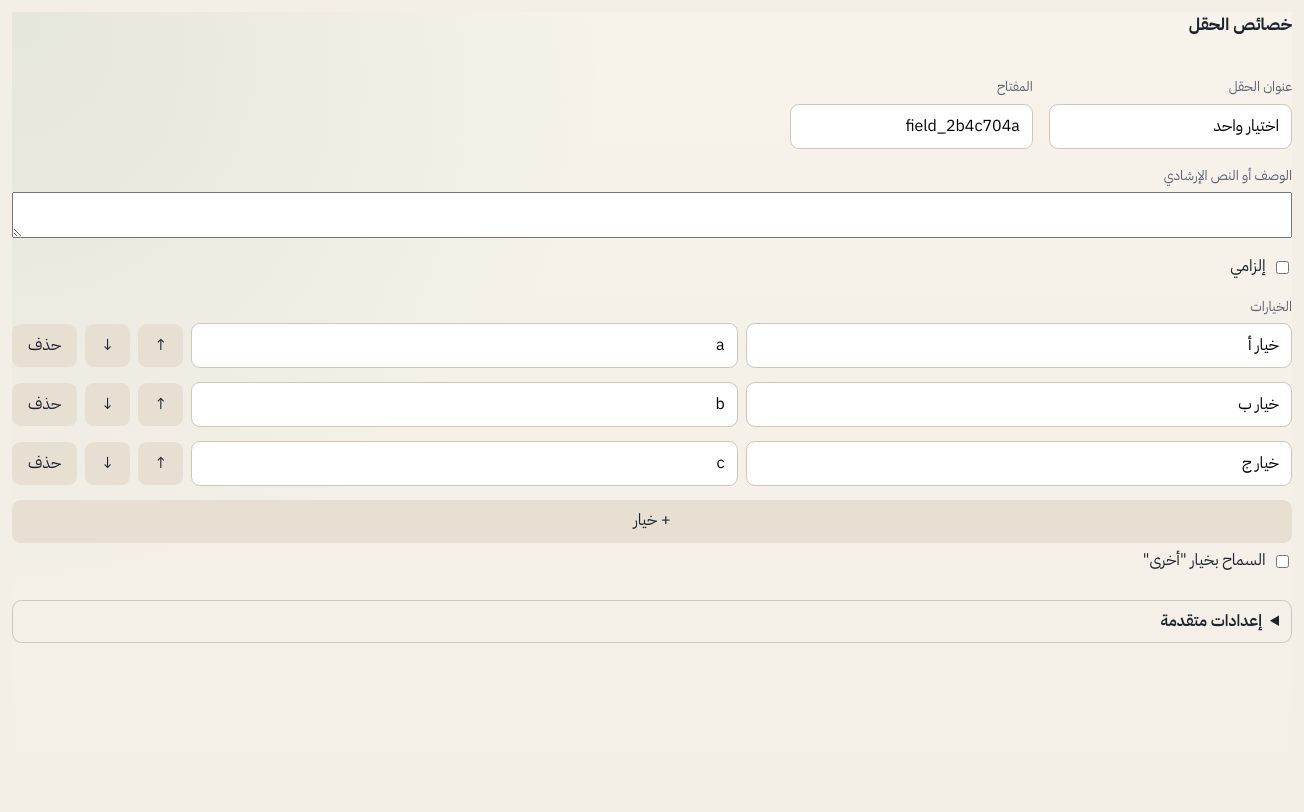
it: StudioInspector choice options › keeps a duplicate-key error attached to the correct row after an earlier option is removed
Replace the text in the field named "مفتاح الخيار 3" with "a" at (464, 463), box [191, 441, 738, 486]
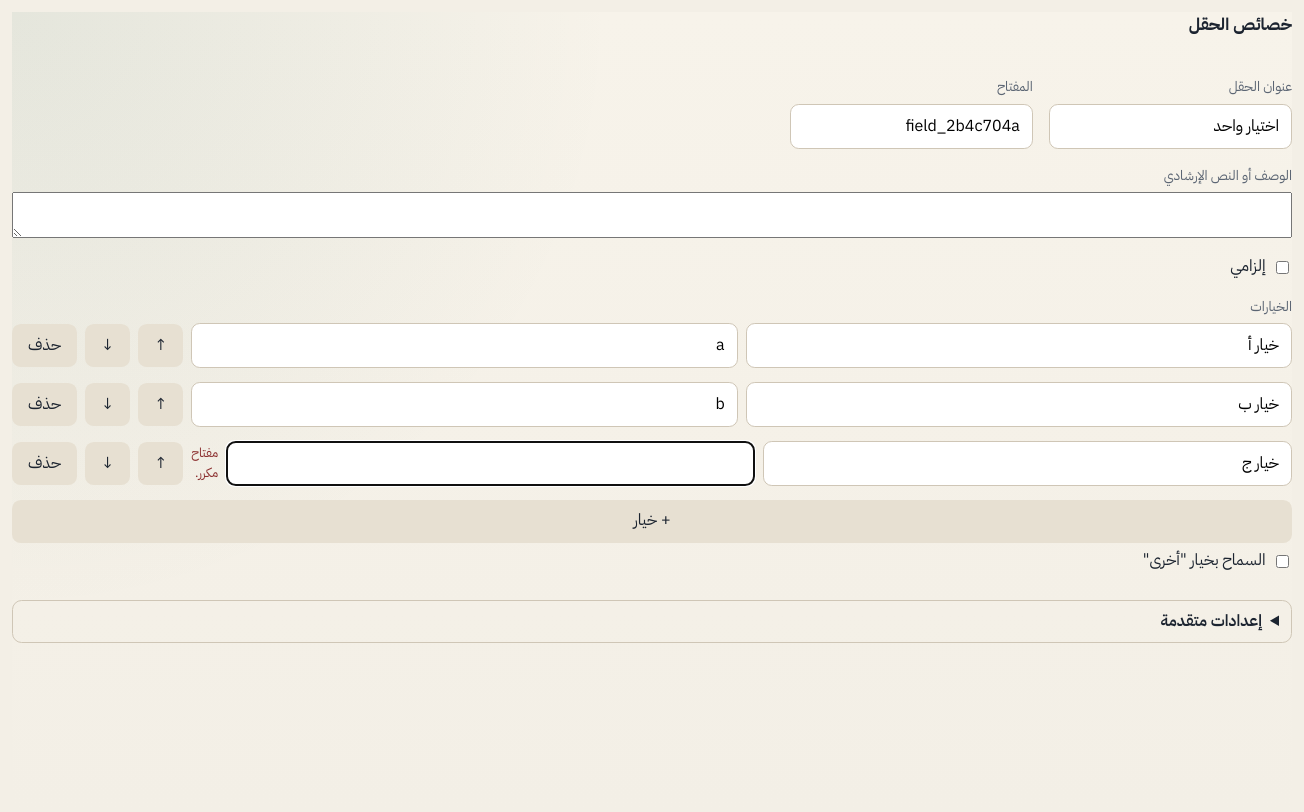
Expected: the text "مفتاح مكرر." is shown, [191, 443, 218, 484]
Click the button with aria-label "حذف الخيار".
click(45, 346)  # box [12, 324, 77, 368]
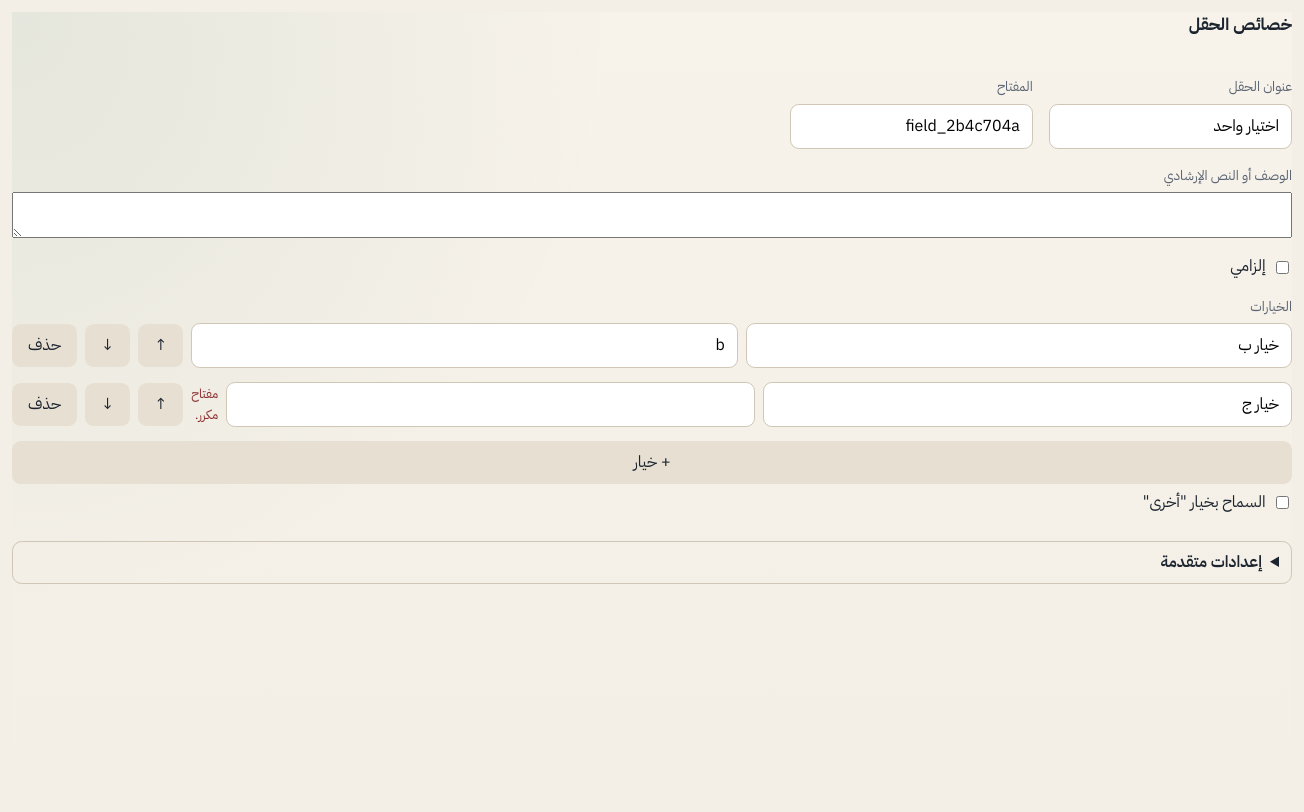
Expected: the element with class "designer-row" does not show "مفتاح مكرر."
Expected: the element with class "designer-row" shows "مفتاح مكرر.", [191, 384, 218, 424]
Expected: the number of elements with class "designer-row" is 2, [12, 323, 1292, 368]; [12, 382, 1292, 427]
